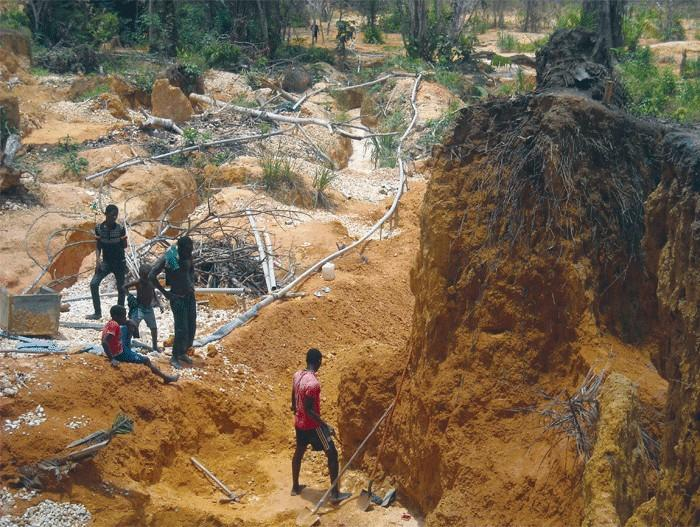MiningTool: (295, 397, 396, 527), (353, 341, 417, 511), (188, 454, 246, 504), (322, 261, 336, 282)
Person: (289, 347, 353, 504), (148, 234, 200, 371), (99, 303, 182, 384), (82, 203, 129, 320), (121, 264, 166, 352), (310, 20, 321, 46)
